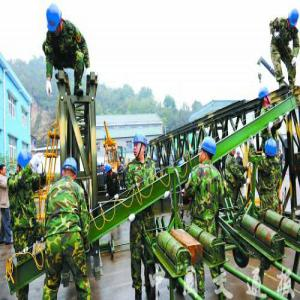blue: (47, 5, 65, 35), (15, 151, 33, 178), (200, 138, 217, 166), (63, 158, 79, 183), (134, 135, 148, 161), (265, 138, 278, 159), (259, 87, 272, 107), (289, 7, 300, 28), (106, 165, 114, 178), (236, 151, 242, 160)
none: (2, 164, 7, 177)
